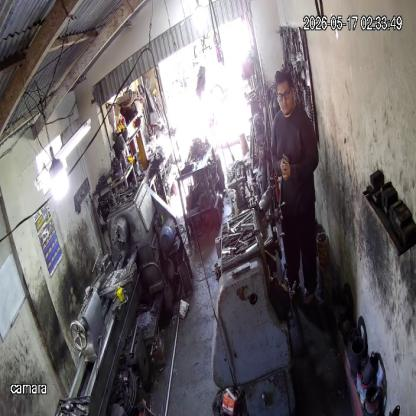lentes: (276, 88, 292, 100)
